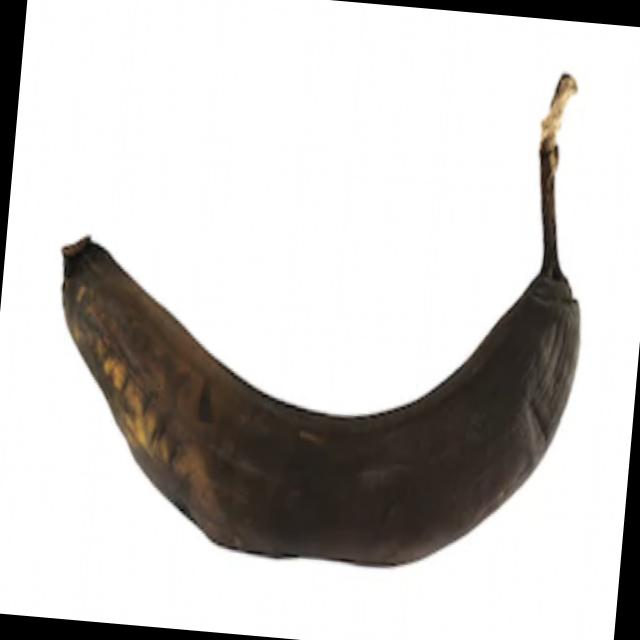rotten-banana: (31, 27, 606, 589)
